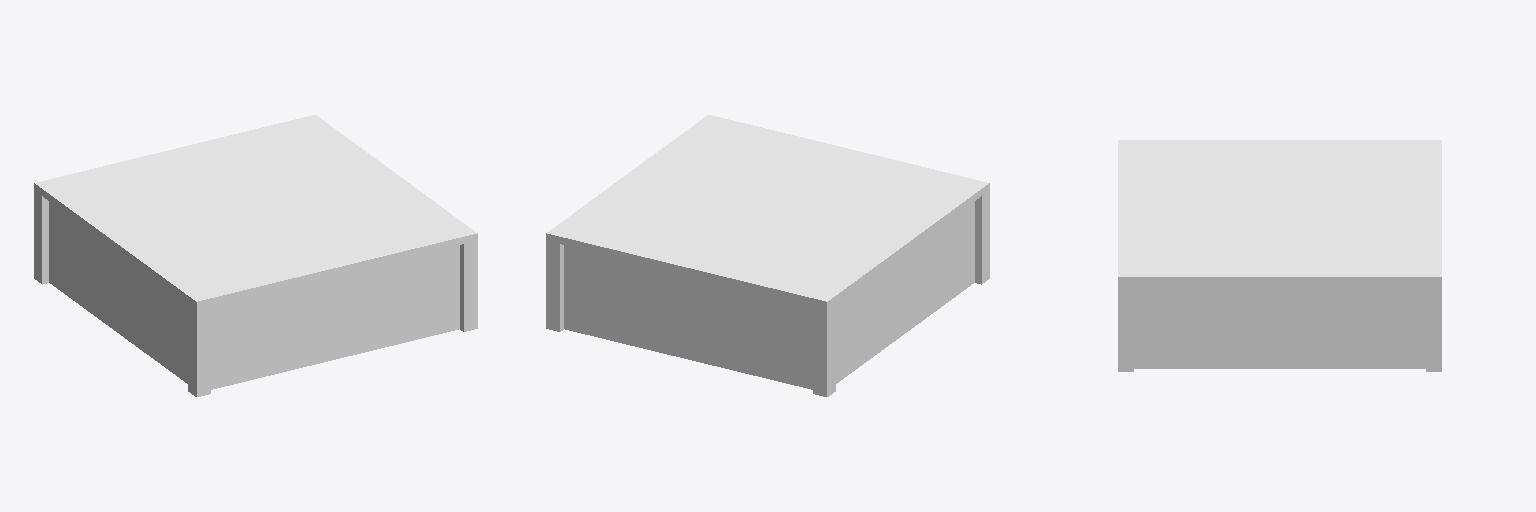
Rendered from EmptyTable.obj.
The picture shows the model from 3 angles: view 1: azimuth 30°, elevation 25°; view 2: azimuth 150°, elevation 25°; view 3: azimuth 270°, elevation 25°; orthographic projection.
Visible parts, largest first — view 1: object 1; view 2: object 1; view 3: object 1.
Boxes of the visible parts, x1=… form: object 1: x1=34, y1=115, x2=477, y2=396; object 1: x1=546, y1=115, x2=989, y2=396; object 1: x1=1118, y1=140, x2=1441, y2=371.
Size of the model in its own units: 4 by 1.3 by 4.